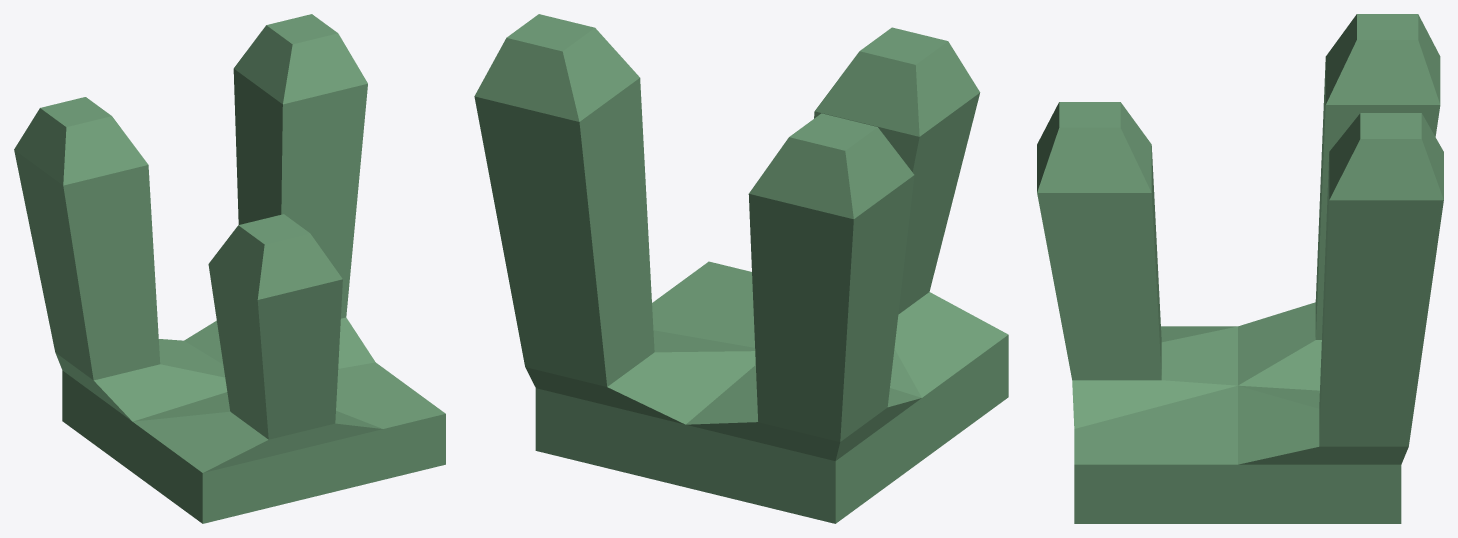
File: resource__grass__no-border-normal.fbx
The picture shows the model from 3 angles, left to right: view 1: azimuth 30°, elevation 25°; view 2: azimuth 150°, elevation 25°; view 3: azimuth 270°, elevation 25°; orthographic projection. The views are drawn at different scales.
Parts seen in each view (by area): view 1: Grass_No_Border_Mid; view 2: Grass_No_Border_Mid; view 3: Grass_No_Border_Mid.
Boxes of the visible parts, x1,y1,x2,y2 form: Grass_No_Border_Mid: (14, 14, 445, 523); Grass_No_Border_Mid: (474, 14, 1008, 523); Grass_No_Border_Mid: (1037, 14, 1443, 523).
Bounding box in the file's own units: 20.77 × 21.88 × 20.5.
